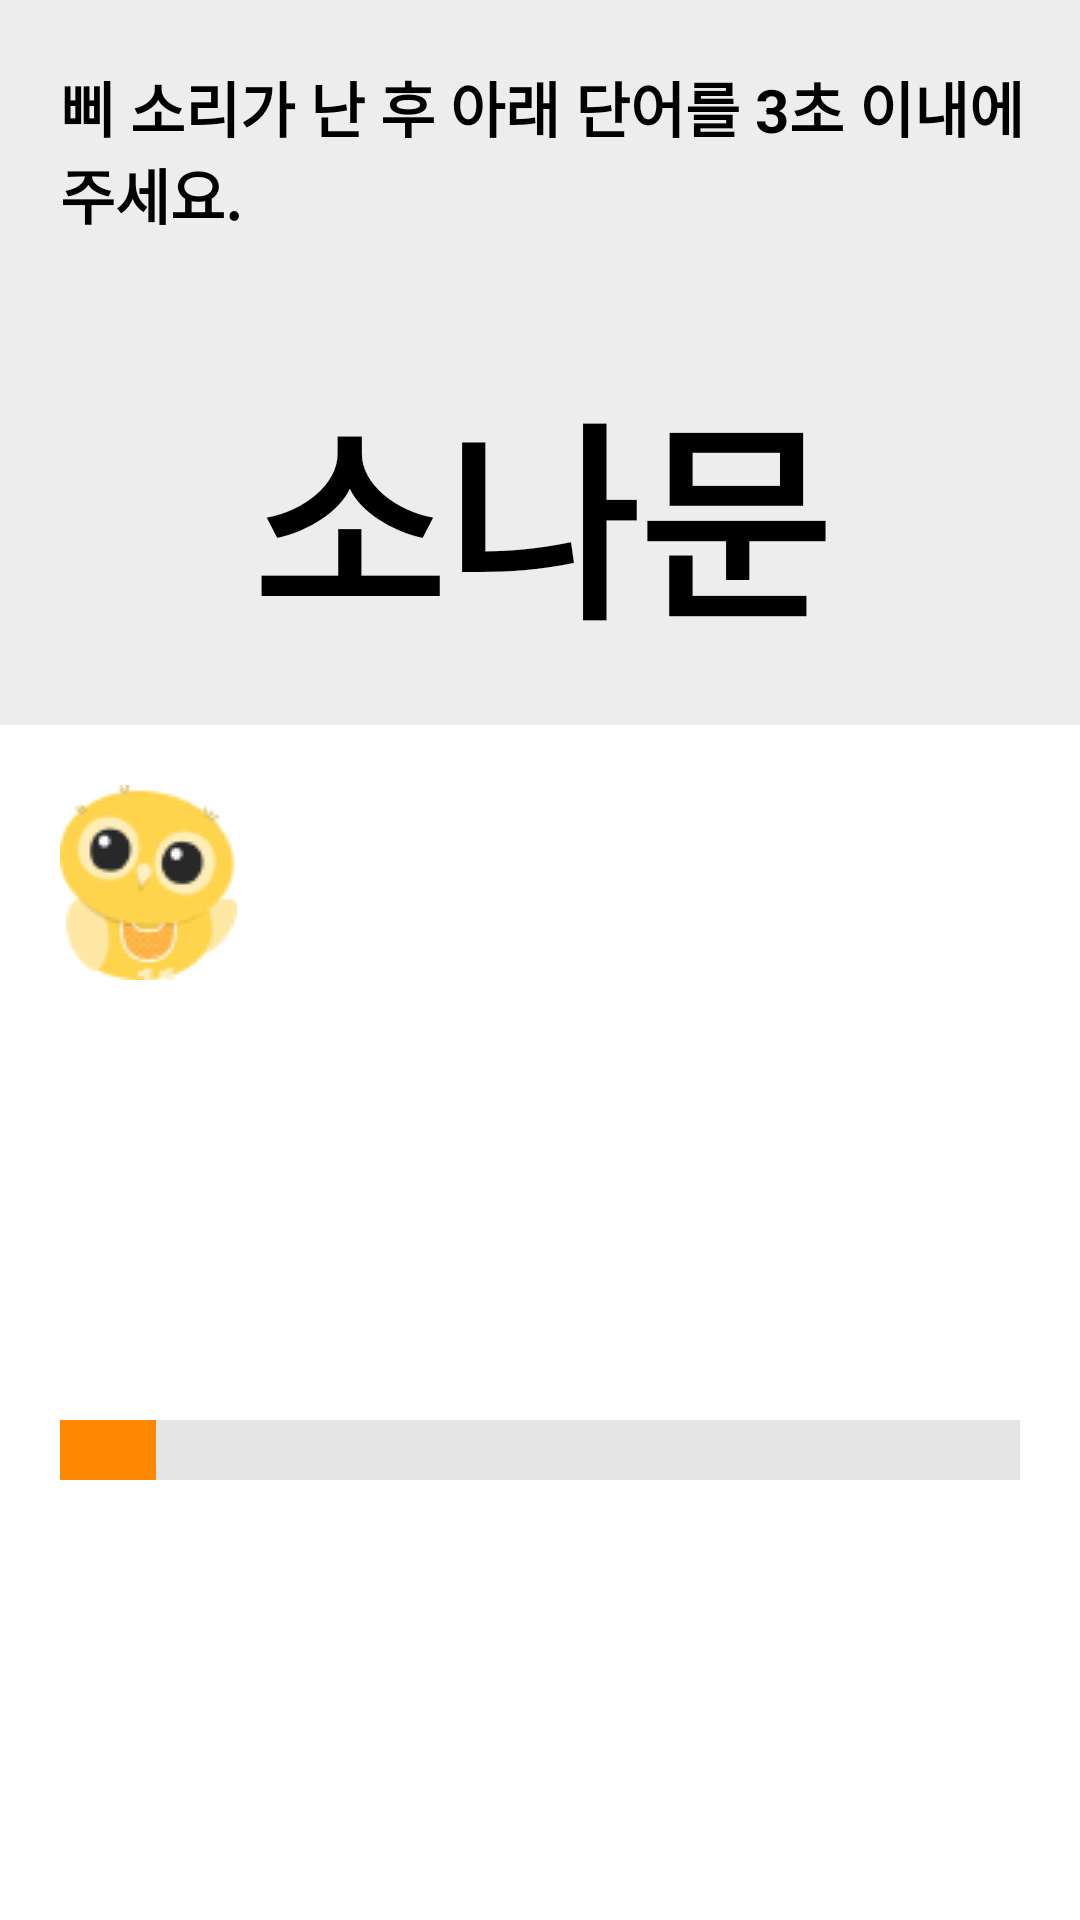

Icon bounding boxes for this 1080px x 1920px phone screenshot, format (x1, y1, x2, y2):
owlim: (60, 785, 237, 980)
